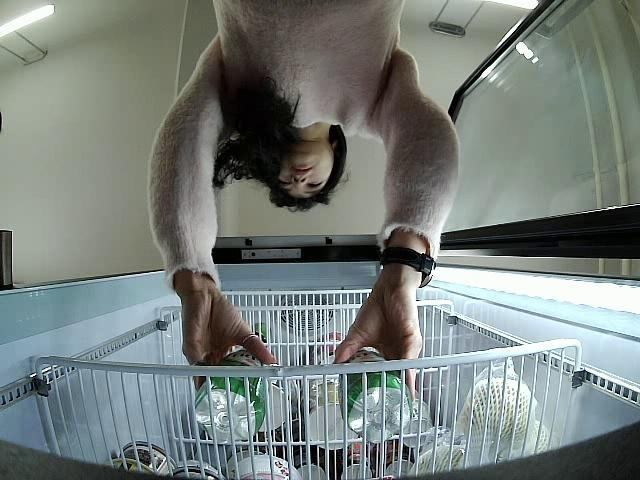18_trevi: (190, 348, 267, 442), (340, 349, 413, 442)
